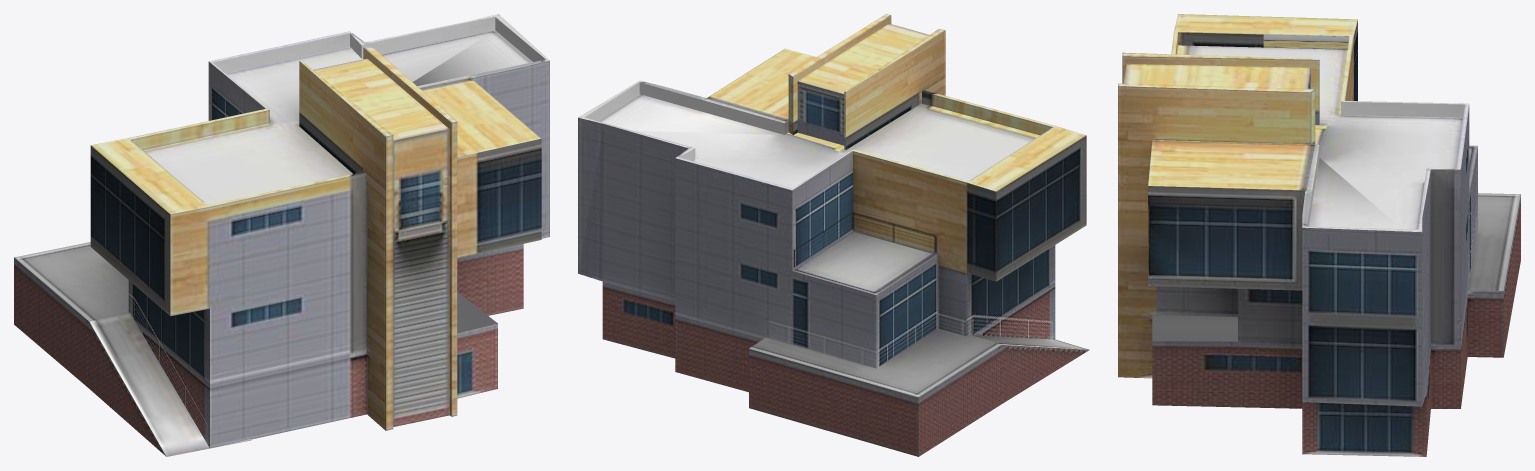
3 views of the same model, side by side, from view 1: azimuth 30°, elevation 25°; view 2: azimuth 150°, elevation 25°; view 3: azimuth 270°, elevation 25° (orthographic). The views are drawn at different scales.
Visible parts, largest first — view 1: MainBuilding; view 2: MainBuilding; view 3: MainBuilding.
Part boxes in pixels (bbox=[...]): MainBuilding: bbox=[14, 14, 549, 456]; MainBuilding: bbox=[578, 14, 1089, 456]; MainBuilding: bbox=[1118, 14, 1520, 456].
Bounding box in the file's own units: 1.9 × 1.17 × 1.47.
Materials: 1 (1 with a texture image).
